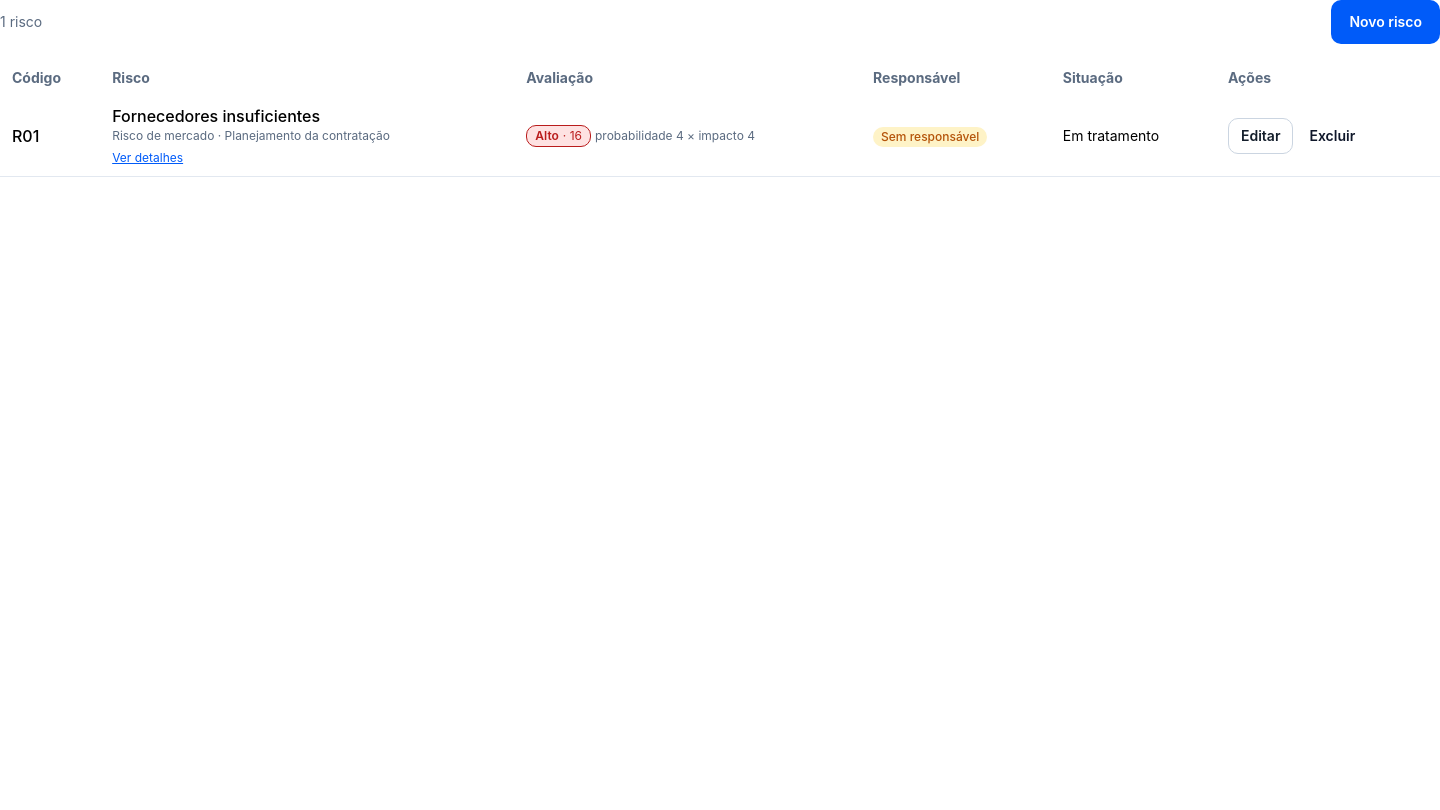
it: SCR-011 · ações de tratamento (US-034) › [Concorrência] 412 na edição: aviso "alterada por outra pessoa" e recarrega a lista
Click the button with aria-label "Ver detalhes R01": {"x": 148, "y": 158} [112, 150, 183, 166]
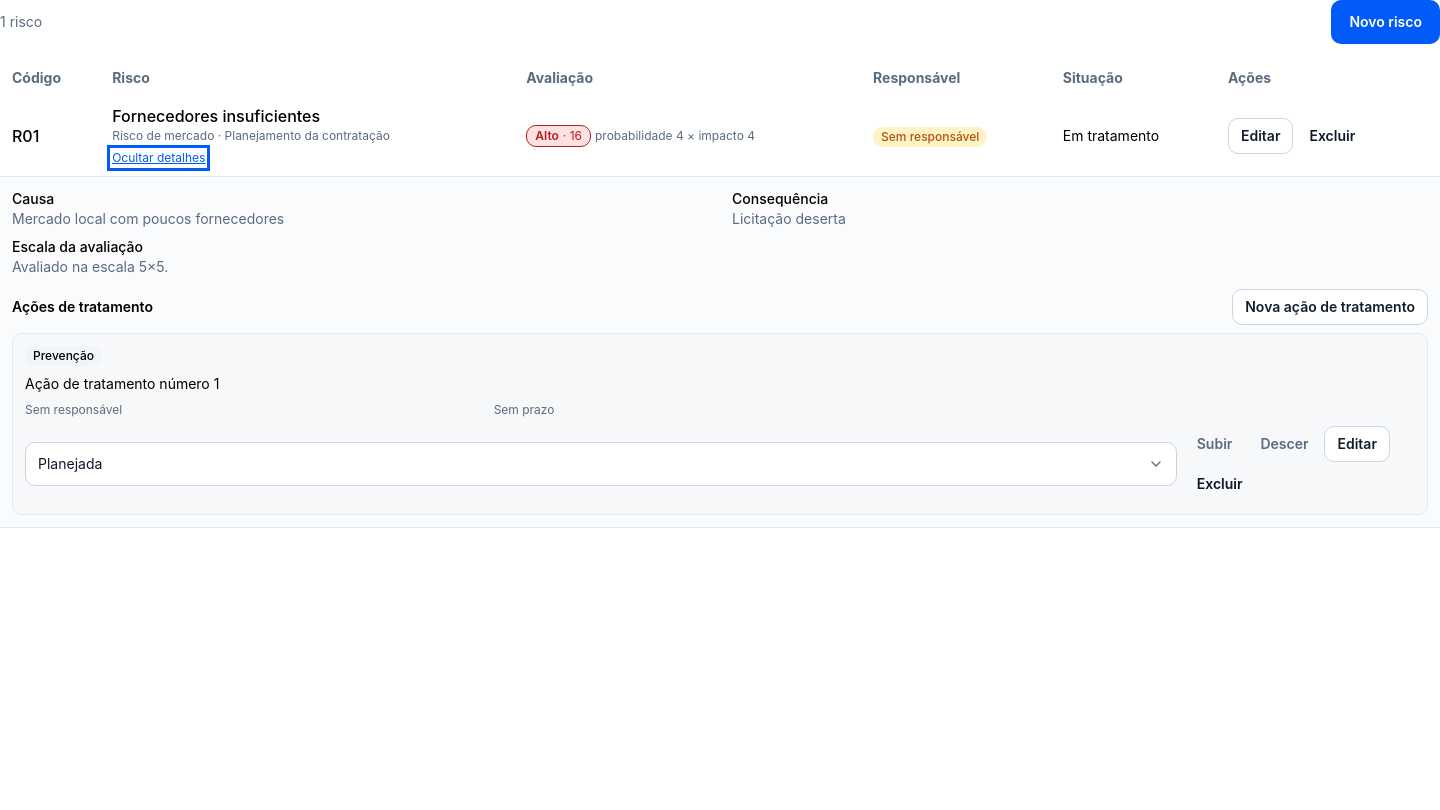
Click the button with aria-label "Editar a ação 1 do risco R01": {"x": 1357, "y": 444} [1324, 426, 1390, 462]
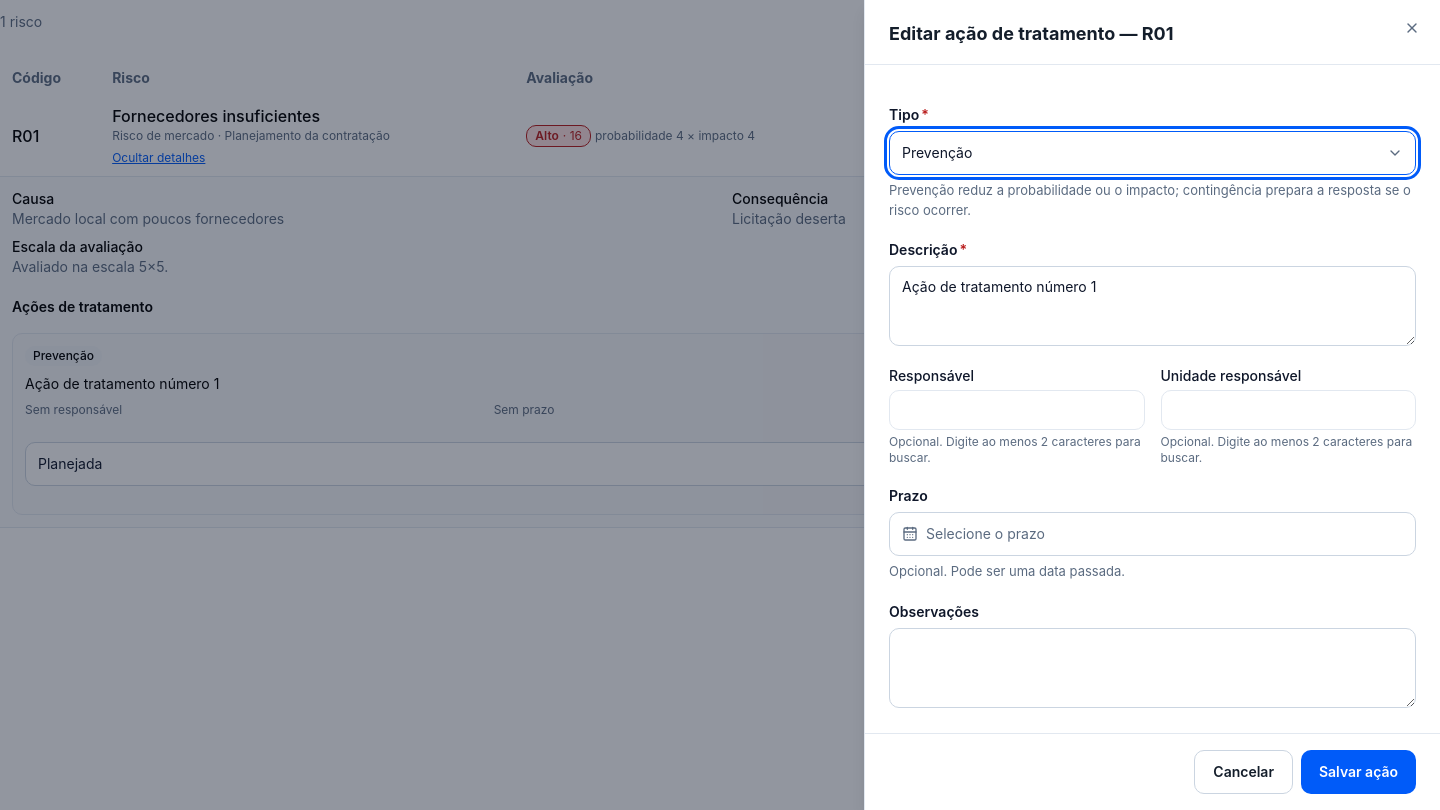
In the text box labelled "Observações": {"x": 1152, "y": 668} [889, 628, 1416, 708], type "Nova observação"
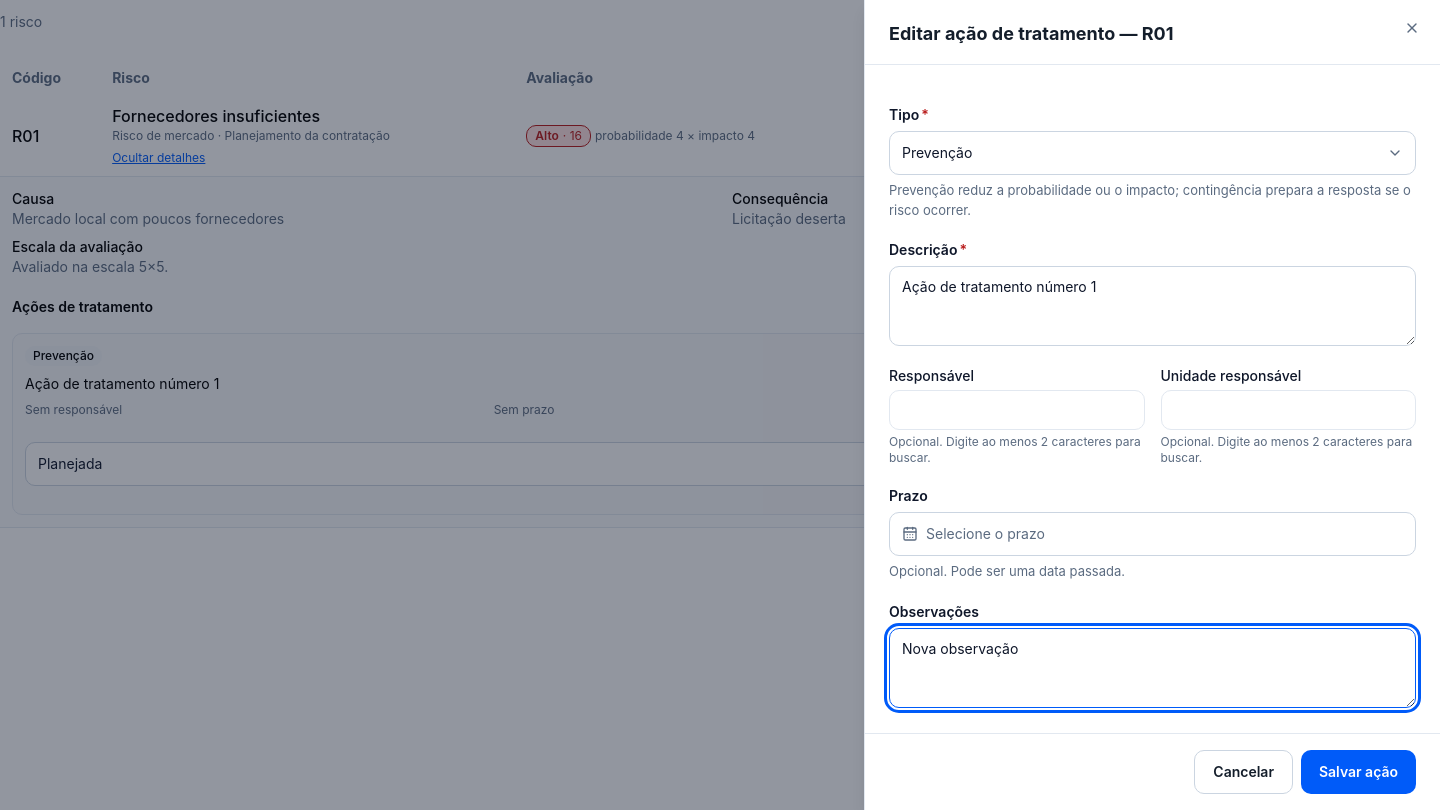
Click the button "Salvar ação": {"x": 1358, "y": 772} [1301, 750, 1416, 794]
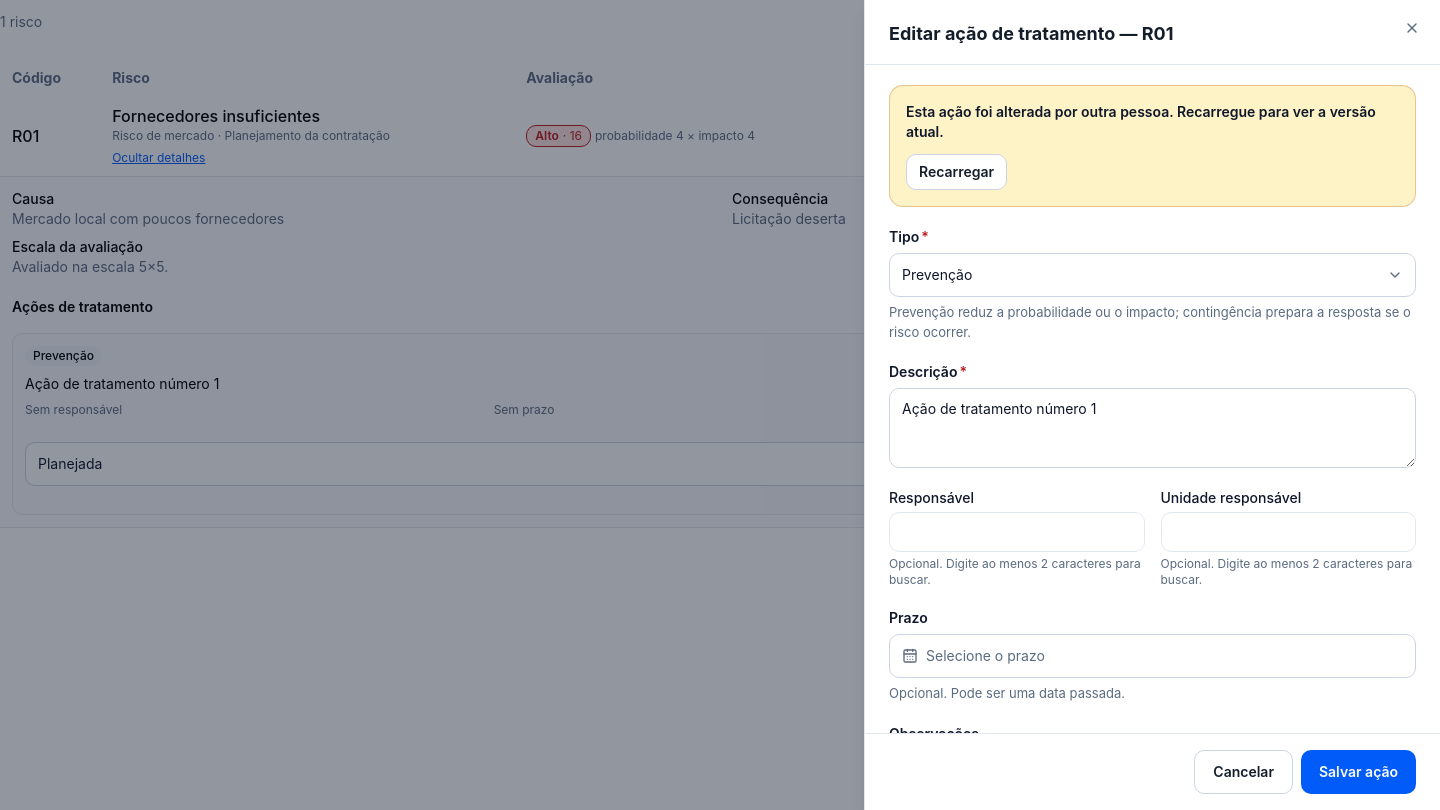
Now the text "Esta ação foi alterada por outra pessoa. Recarregue para ver a versão atual." is shown, box [906, 102, 1399, 142]
